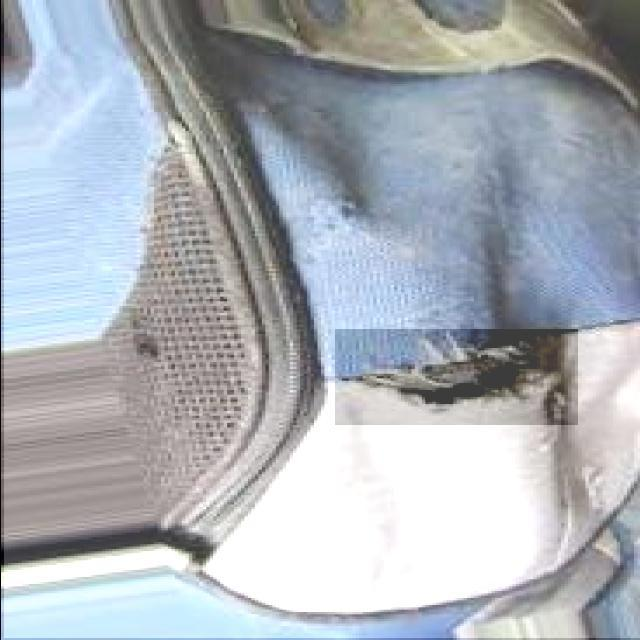Damage-bag: (335, 329, 579, 424), (132, 320, 158, 356)
